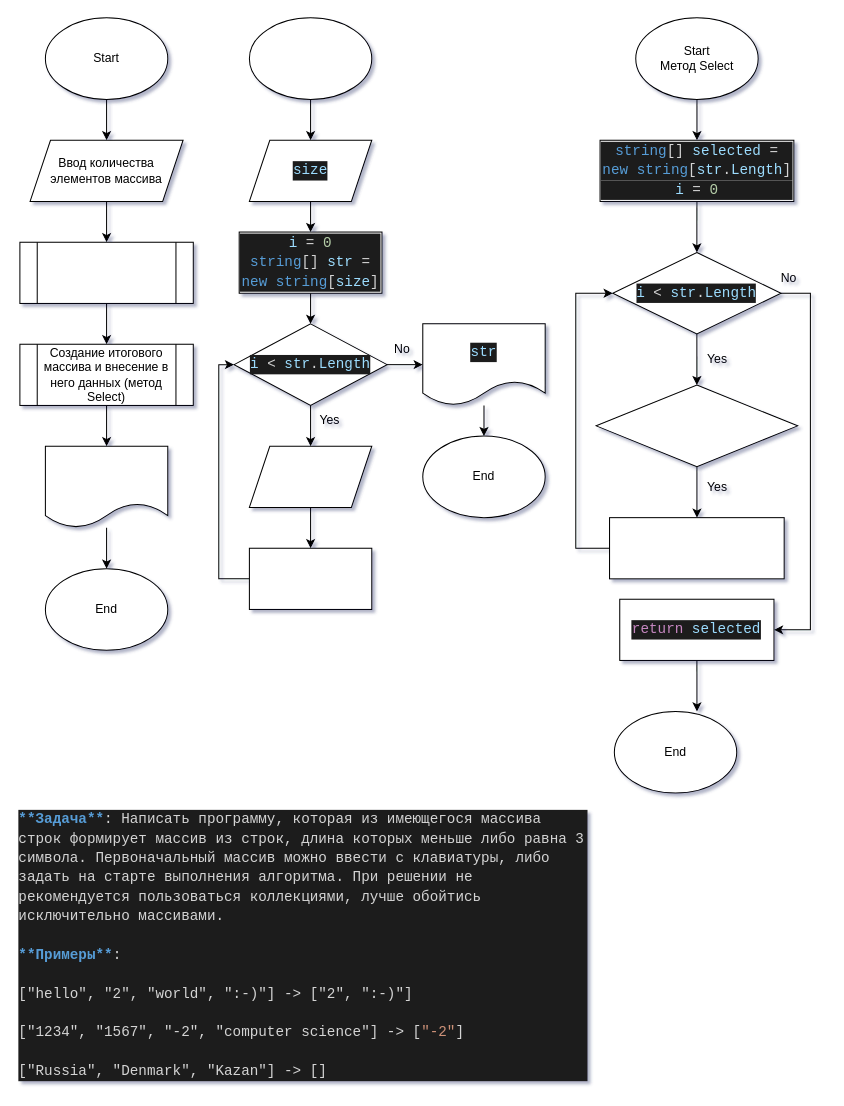
Image size: 844x1106. Some labels were removed from this diagram. Each missing label, with the centre of its shape:
"i ++" goes at point 310,578.
"selected [ i ] = str [ i ] i ++" goes at point 696,548.
"Start Метод Create" goes at point 310,58.
"str [ i ]" goes at point 310,476.
"str [ i ]. Length <= 3" goes at point 696,425.
"Вывод итогового массива в консоль" goes at point 106,486.
"Создание изначального массива (метод Create) и вывод его в консоль" goes at point 106,272.
